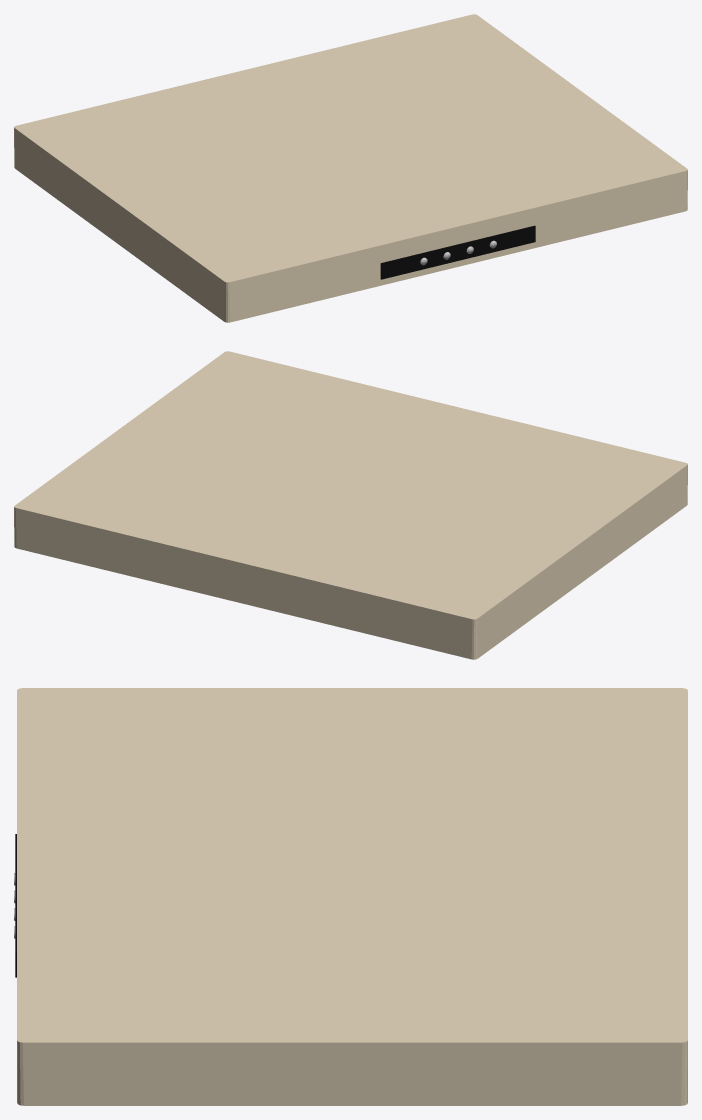
Rendered from a_hood_tbox_3.glb.
3 views of the same model, one above another, from view 1: azimuth 30°, elevation 25°; view 2: azimuth 150°, elevation 25°; view 3: azimuth 270°, elevation 25° (orthographic). The views are drawn at different scales.
Parts seen in each view (by area): view 1: o, o.025; view 2: o; view 3: o.
Boxes of the visible parts, x1,y1,x2,y2 form: o: (14,14,687,322); o.025: (380,225,535,279); o: (14,351,687,659); o: (17,688,687,1105).
Bounding box in the file's own units: 0.6 × 0.0522 × 0.4822.
